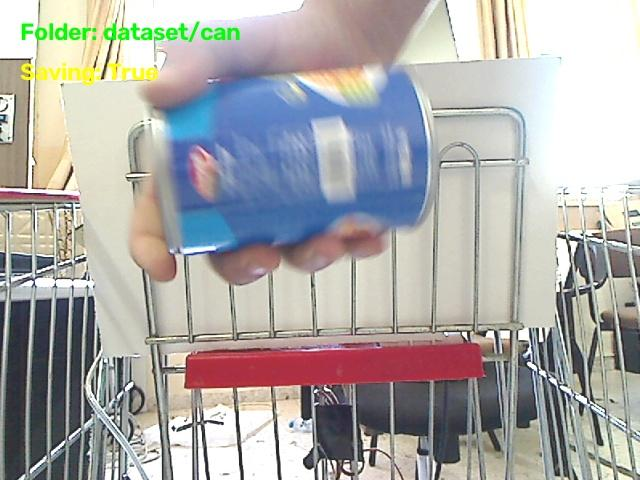can: (152, 66, 437, 253)
